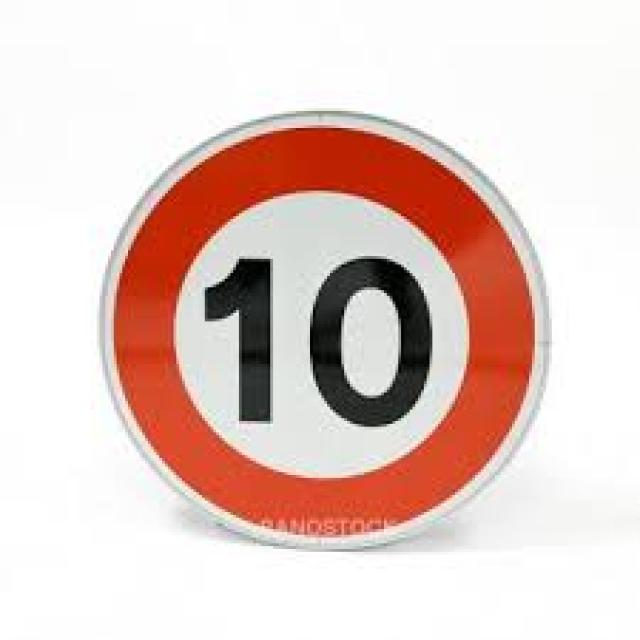speed: (103, 114, 546, 552)
